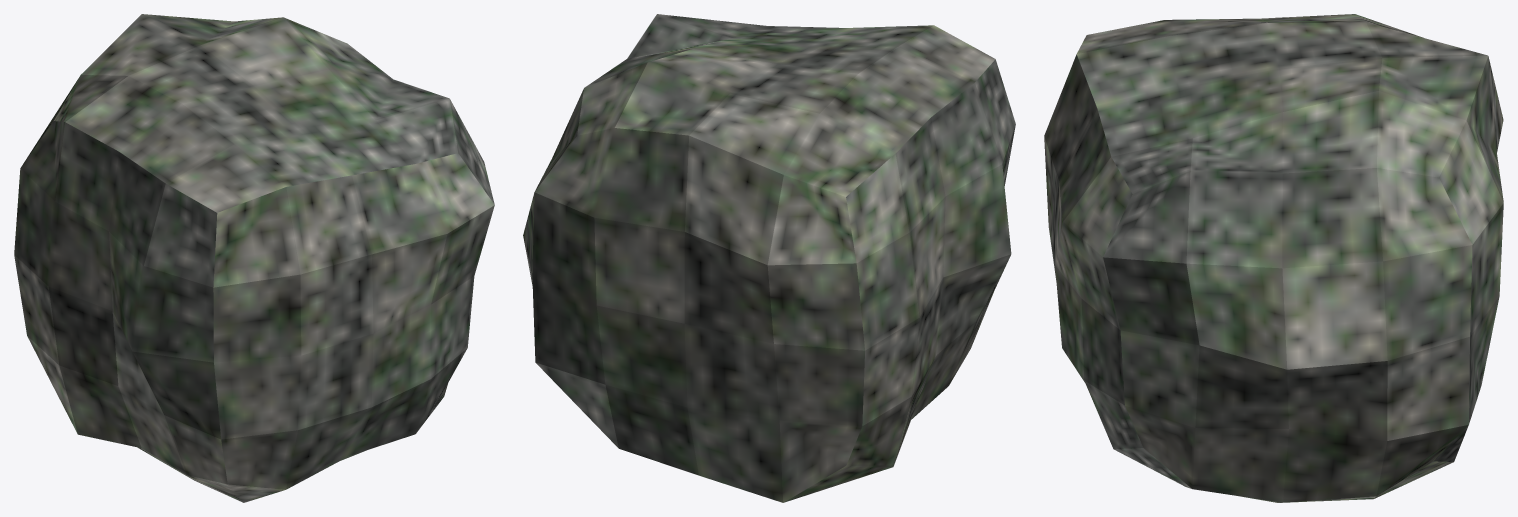
Rendered from SM_EC_Rock_72.fbx.
3 views of the same model, side by side, from view 1: azimuth 30°, elevation 25°; view 2: azimuth 150°, elevation 25°; view 3: azimuth 270°, elevation 25° (orthographic). The views are drawn at different scales.
Visible parts, largest first — view 1: SM_EC_Rock_72; view 2: SM_EC_Rock_72; view 3: SM_EC_Rock_72.
Part boxes in pixels (box(x1,y1,x2,y2)): SM_EC_Rock_72: box(14, 14, 494, 502); SM_EC_Rock_72: box(523, 14, 1015, 502); SM_EC_Rock_72: box(1044, 14, 1503, 502).
Size of the model in its own units: 0.5673 by 0.5359 by 0.5481.
